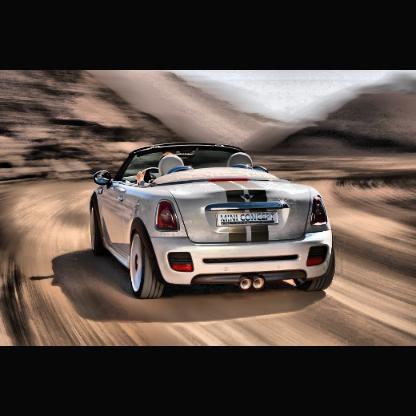MINI Cooper Roadster Convertible 2012: (89, 145, 337, 301)
